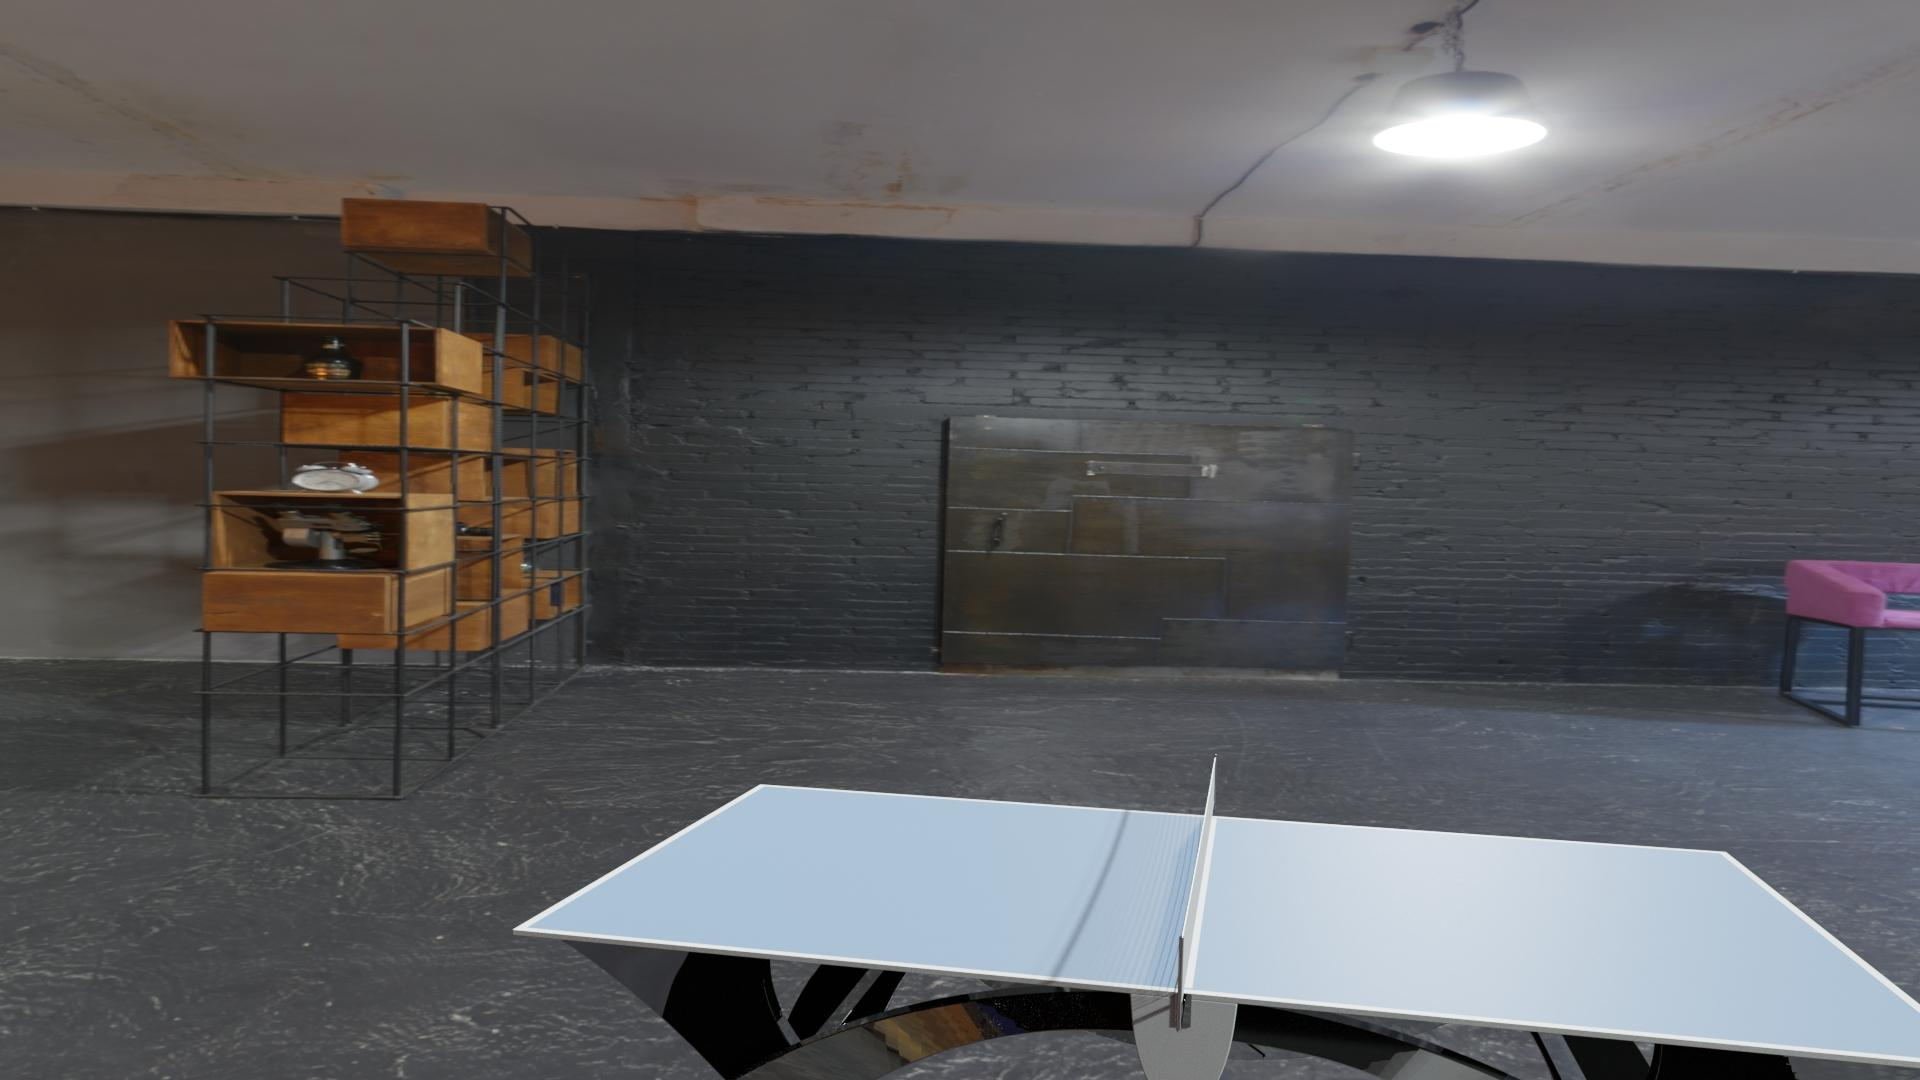table: (526, 786, 1920, 1058)
